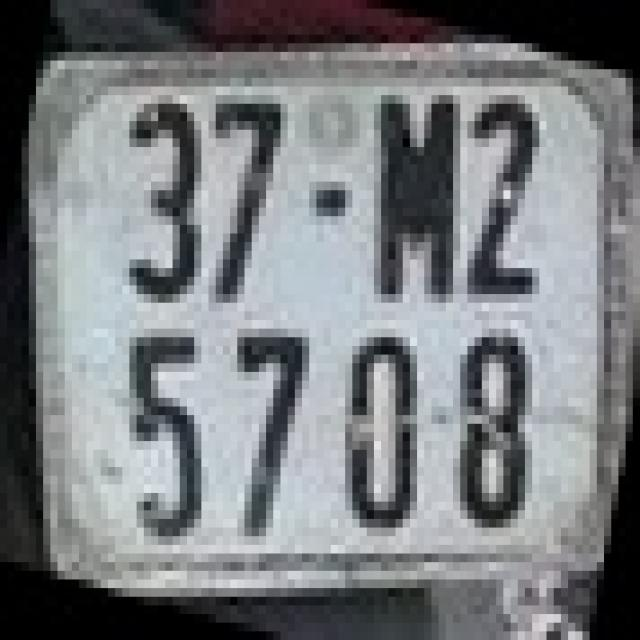0: (338, 328, 424, 528)
2: (468, 95, 540, 294)
3: (122, 95, 202, 303)
5: (130, 329, 208, 536)
7: (208, 95, 288, 303), (230, 329, 309, 536)
8: (453, 328, 532, 528)
M: (363, 82, 457, 307)
